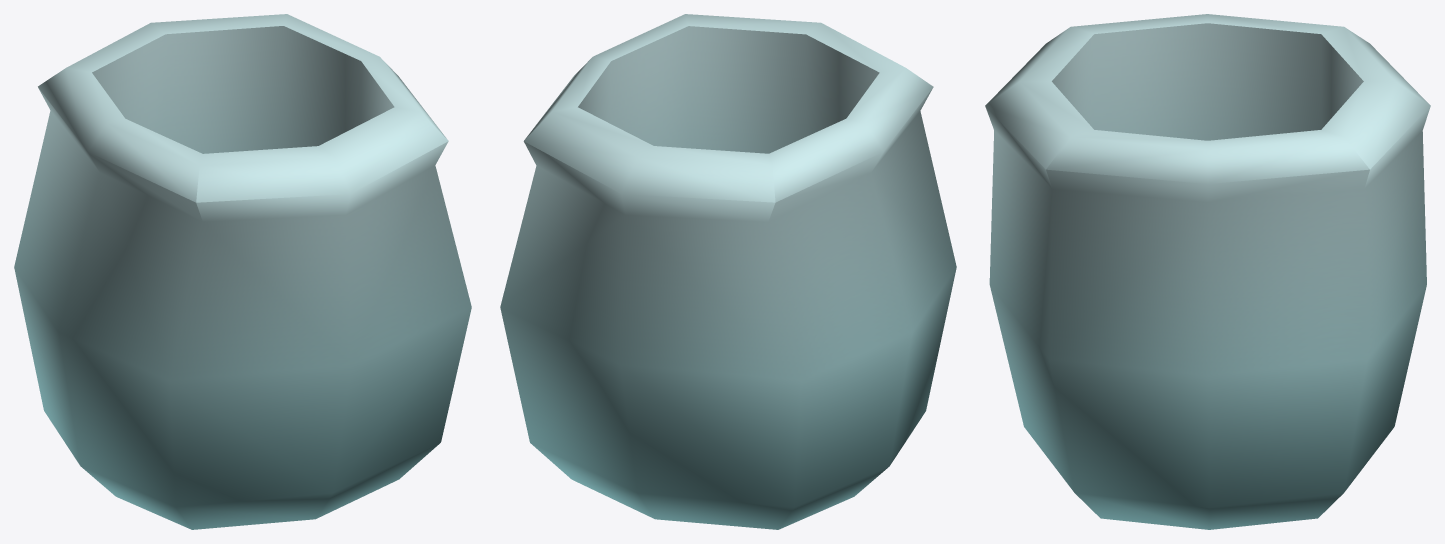
File: Jarron01.obj
The picture shows the model from 3 angles, left to right: view 1: azimuth 30°, elevation 25°; view 2: azimuth 150°, elevation 25°; view 3: azimuth 270°, elevation 25°; orthographic projection. The views are drawn at different scales.
Parts seen in each view (by area): view 1: Jarron01.obj; view 2: Jarron01.obj; view 3: Jarron01.obj.
Part boxes in pixels (x1=…): Jarron01.obj: x1=14, y1=14, x2=471, y2=529; Jarron01.obj: x1=500, y1=14, x2=956, y2=529; Jarron01.obj: x1=985, y1=14, x2=1430, y2=529.
Bounding box in the file's own units: 0.1601 × 0.1562 × 0.164.
